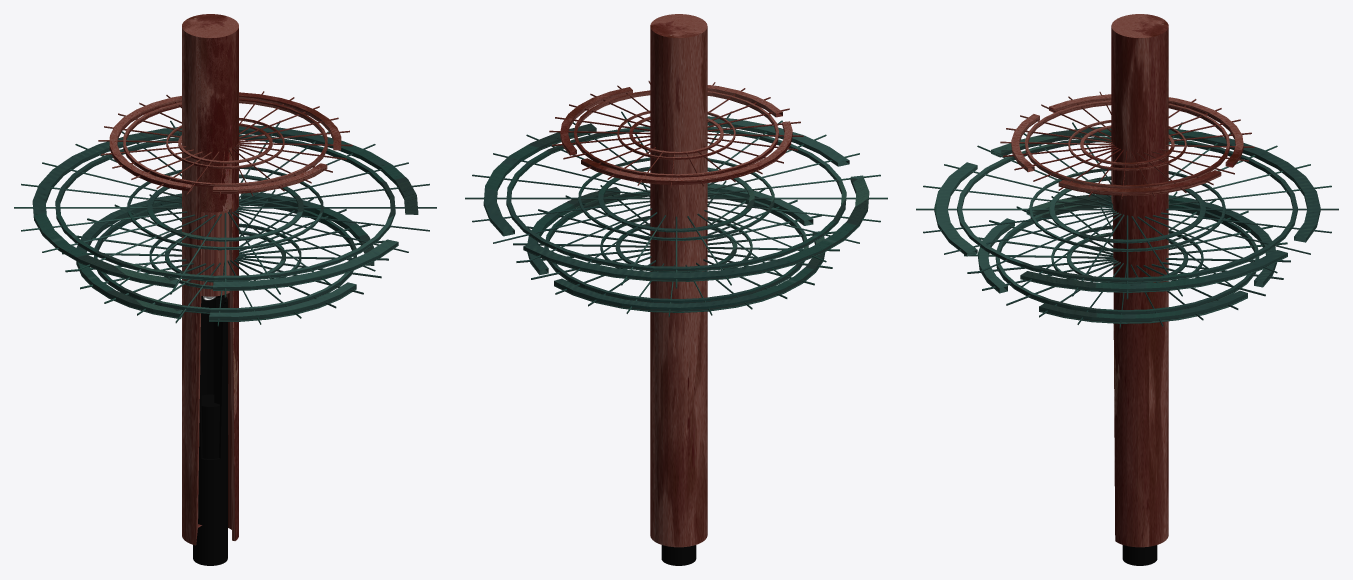
Rendered from collector.fbx.
3 views of the same model, side by side, from view 1: azimuth 30°, elevation 25°; view 2: azimuth 150°, elevation 25°; view 3: azimuth 270°, elevation 25° (orthographic).
Parts seen in each view (by area): view 1: Cylinder.056, Cylinder.017, Cylinder.002, Cylinder.016, Cylinder.057; view 2: Cylinder.056, Cylinder.017, Cylinder.002, Cylinder.016, Cylinder.057; view 3: Cylinder.056, Cylinder.017, Cylinder.002, Cylinder.016, Cylinder.057.
Part boxes in pixels (box(x1,y1,x2,y2)): Cylinder.056: box(182, 14, 238, 545); Cylinder.017: box(14, 120, 436, 297); Cylinder.002: box(62, 189, 388, 326); Cylinder.016: box(98, 91, 352, 197); Cylinder.057: box(193, 295, 227, 565); Cylinder.056: box(650, 14, 707, 547); Cylinder.017: box(465, 111, 887, 288); Cylinder.002: box(513, 180, 839, 317); Cylinder.016: box(549, 81, 803, 188); Cylinder.057: box(661, 545, 696, 565); Cylinder.056: box(1111, 14, 1168, 547); Cylinder.017: box(916, 122, 1338, 299); Cylinder.002: box(964, 191, 1290, 328); Cylinder.016: box(1000, 92, 1254, 199); Cylinder.057: box(1122, 545, 1157, 565).
Size of the model in its own units: 1100 by 1528 by 1100.
Materials: 4 (2 with a texture image).
